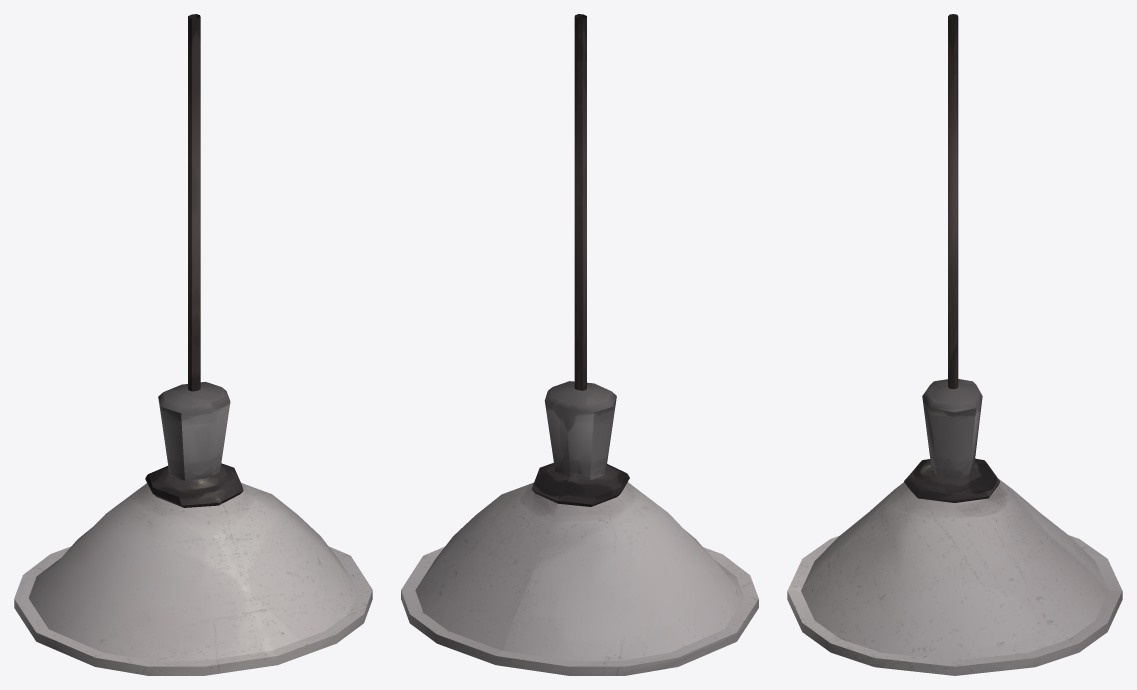
File: lampara.FBX
3 renders of one model, left to right at view 1: azimuth 30°, elevation 25°; view 2: azimuth 150°, elevation 25°; view 3: azimuth 270°, elevation 25°, orthographic.
Parts seen in each view (by area): view 1: Box002; view 2: Box002; view 3: Box002.
Part boxes in pixels (bbox=[...]): Box002: bbox=[14, 14, 372, 675]; Box002: bbox=[401, 14, 758, 675]; Box002: bbox=[787, 14, 1122, 675].
Bounding box in the file's own units: 211 × 376 × 196.
1 material, 1 textured.
